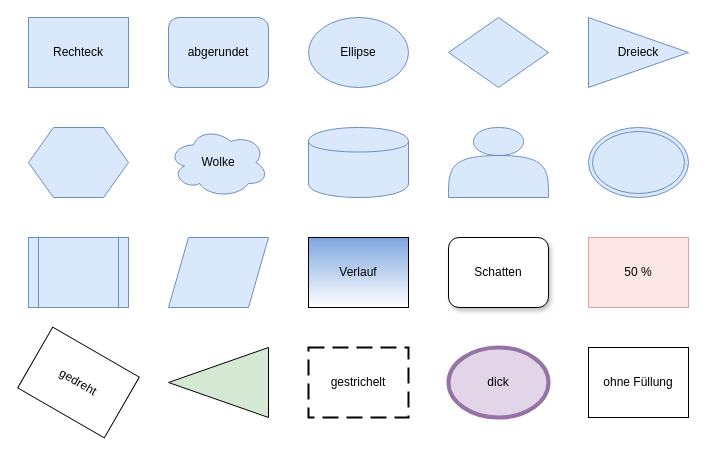
This 706x456 diagram has some shape labels left out. The centre of each missing label's shape, as x and y in pixels:
Doppelt: pixel 638 162
Parallelogramm: pixel 218 272
Prozess: pixel 78 272
Raute: pixel 498 52
Sechseck: pixel 78 162
Zylinder: pixel 358 162
